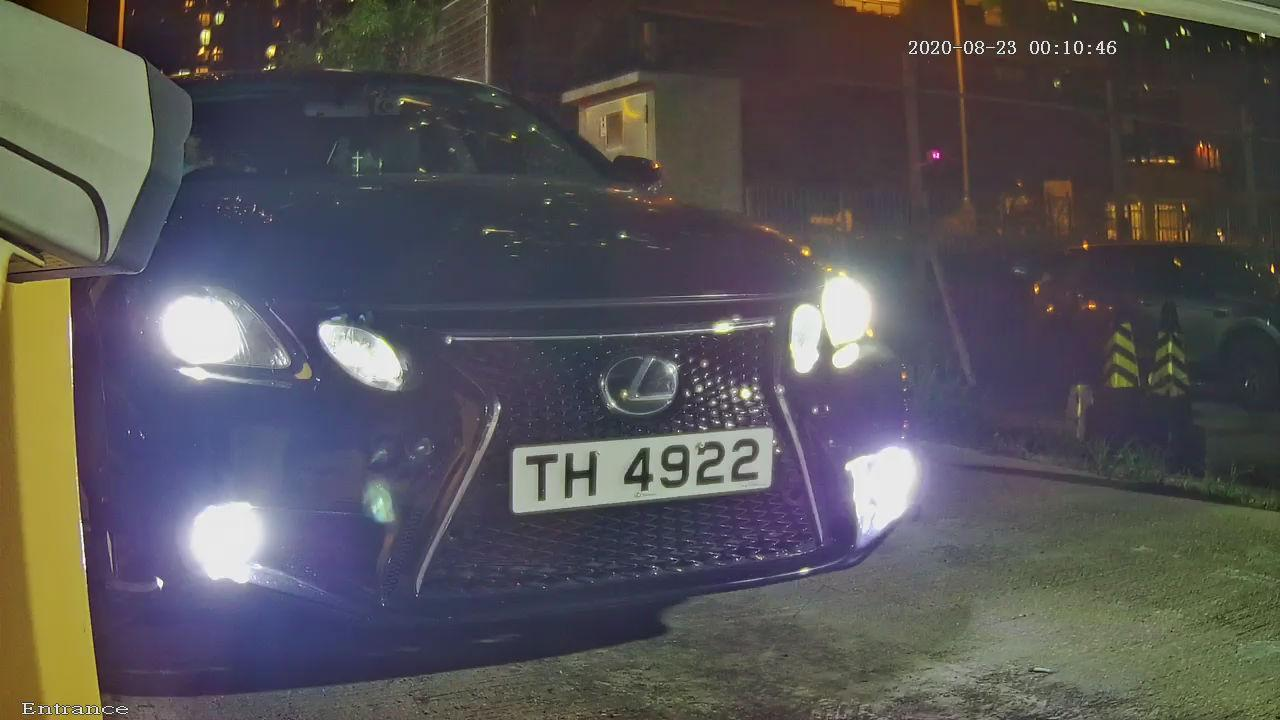Car: (52, 13, 961, 669)
License Plate: (466, 391, 808, 544)
